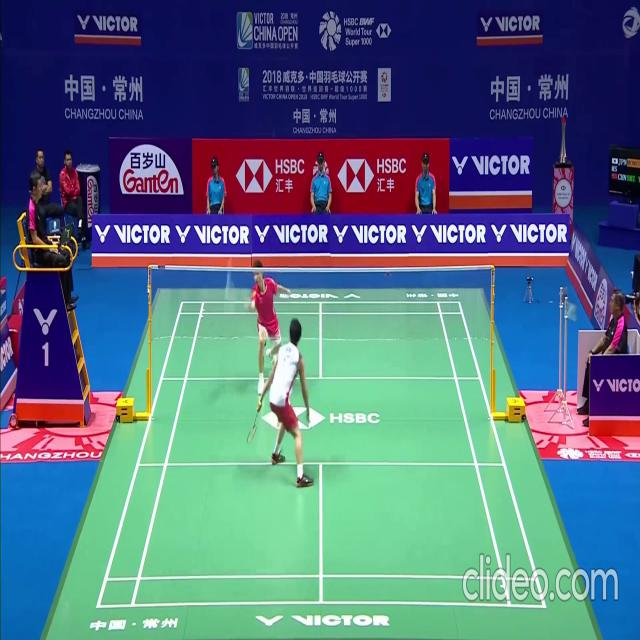Shuttlecock: (225, 272, 230, 280)
